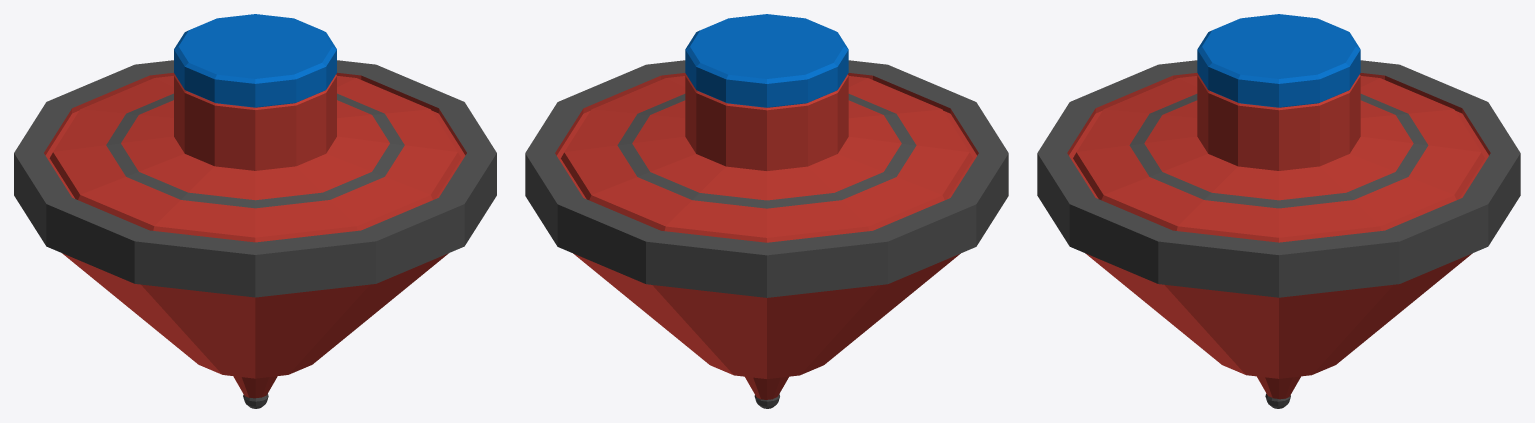
The model's file is Toupis.fbx.
The picture shows the model from 3 angles, left to right: view 1: azimuth 30°, elevation 25°; view 2: azimuth 150°, elevation 25°; view 3: azimuth 270°, elevation 25°; orthographic projection.
Parts seen in each view (by area): view 1: Toupis; view 2: Toupis; view 3: Toupis.
Boxes of the visible parts, <box> form: Toupis: <box>14,14,496,408</box>; Toupis: <box>525,14,1008,408</box>; Toupis: <box>1037,14,1520,408</box>.
Size of the model in its own units: 4.99 by 4.12 by 4.99.
